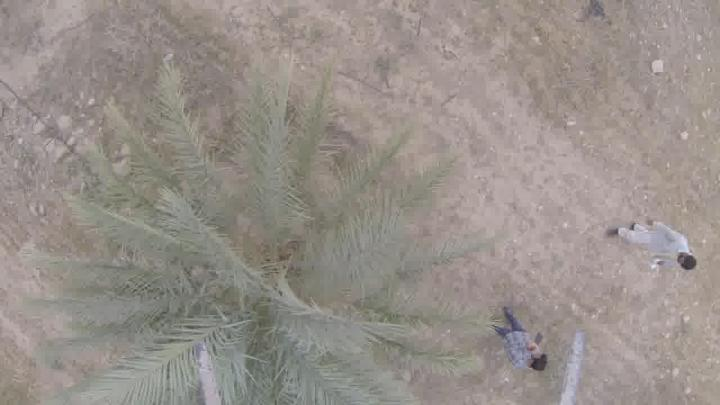Date-Palm-Crown: (151, 155, 387, 405)
